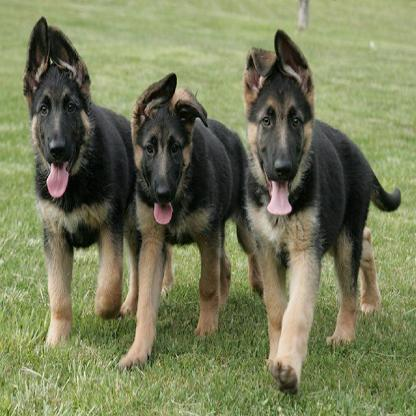german shepherd: (238, 28, 402, 384), (119, 74, 248, 369), (24, 20, 139, 347)
